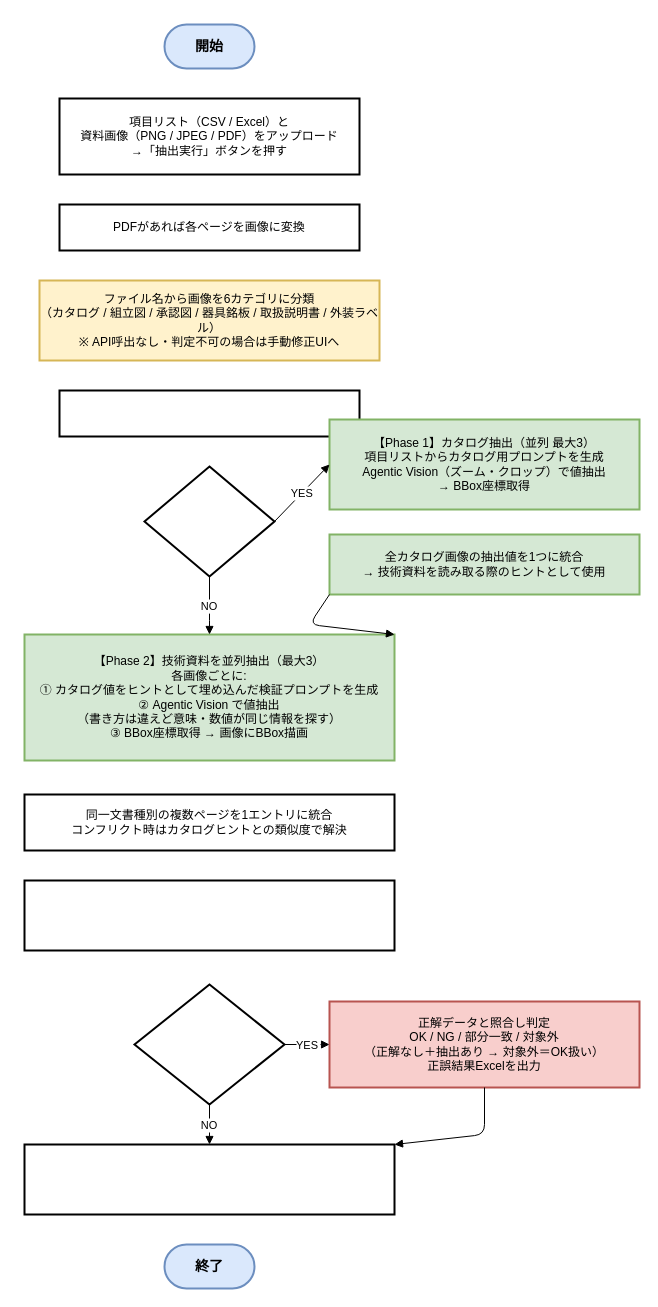
Image size: 658x1307. Some labels were removed from this diagram. Here are the shapes that lost their labels. From the top down, the box of each, then its label:
(58, 389, 360, 437): カタログ画像と技術資料（5種）に分離
(143, 465, 275, 577): カタログ 画像あり？
(23, 879, 395, 951): 【Phase 3】結果出力 ・エビデンス画像を evidence/{タイムスタンプ}/ に保存 ・読み取り結果Excelを出力
(133, 983, 285, 1105): 正解データ （マスターExcel） あり？
(23, 1143, 395, 1215): 結果を画面に表示 ・分類結果 ・BBox付き画像 ・照合マトリクス ・正誤結果テーブル ・Excelダウンロードボタン
